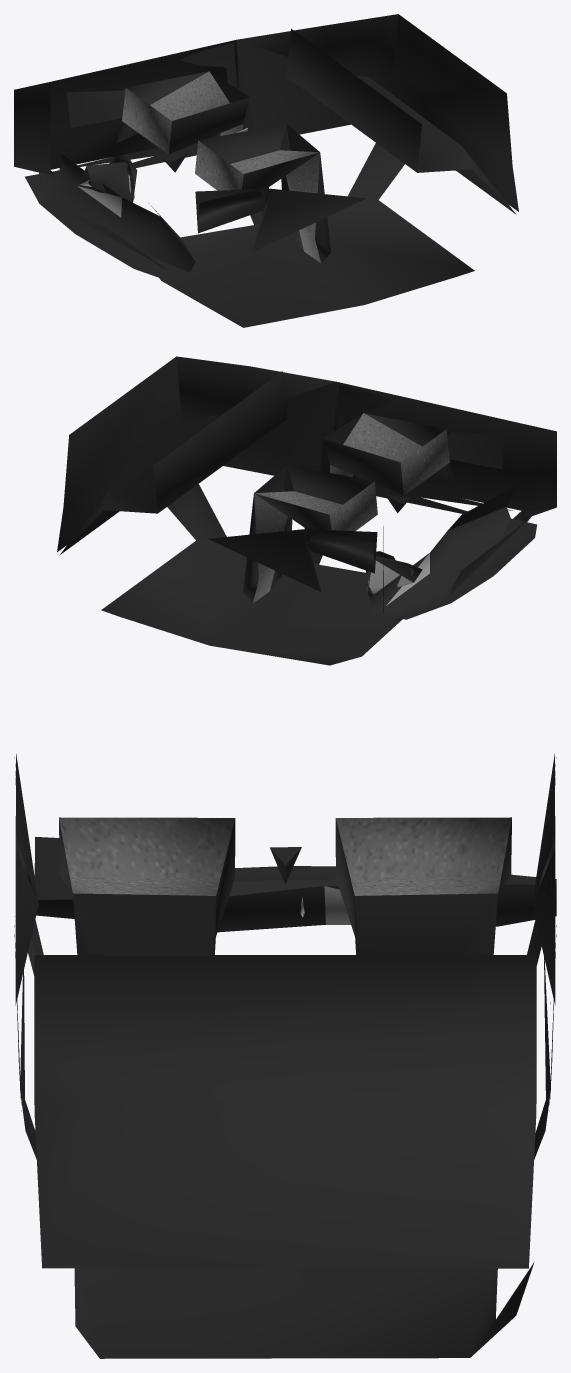
File: M3_interior_d1.obj
3 renders of one model, top to bottom at view 1: azimuth 30°, elevation 25°; view 2: azimuth 150°, elevation 25°; view 3: azimuth 270°, elevation 25°, orthographic. The views are drawn at different scales.
Visible parts, largest first — view 1: M3_interior; view 2: M3_interior; view 3: M3_interior.
Boxes of the visible parts, x1,y1,x2,y2 form: M3_interior: (14,14,518,327); M3_interior: (57,356,556,665); M3_interior: (14,753,556,1358).
Size of the model in its own units: 2.59 by 1.03 by 1.44.
Materials: 1 (1 with a texture image).
